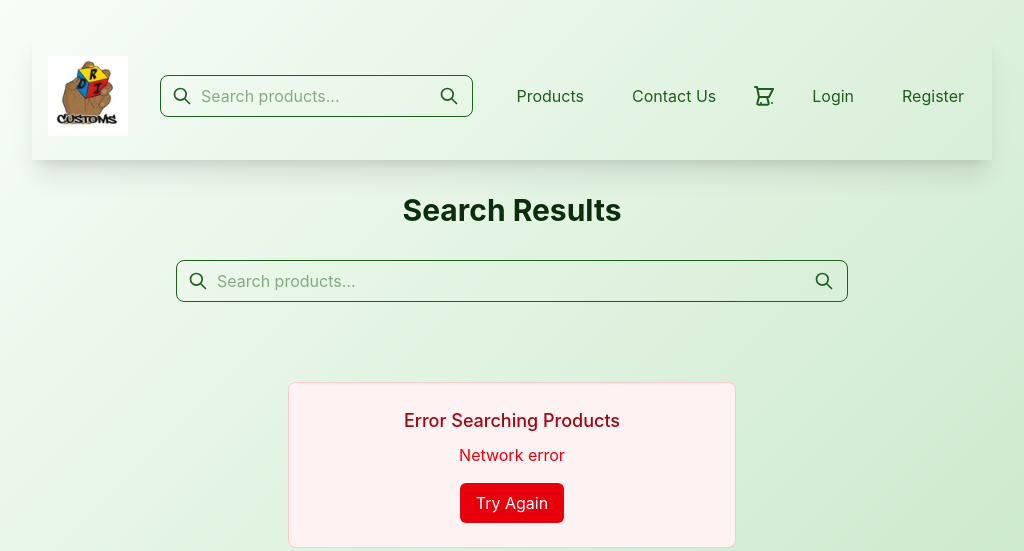
Test: Search Flow Integration Tests › should handle retry after search error
The image size is (1024, 551).
expect the heading "Error Searching Products" is shown: met, box [404, 410, 620, 431]
// Click retry button
Click the button "Try Again" at (512, 503), box [460, 483, 564, 523]
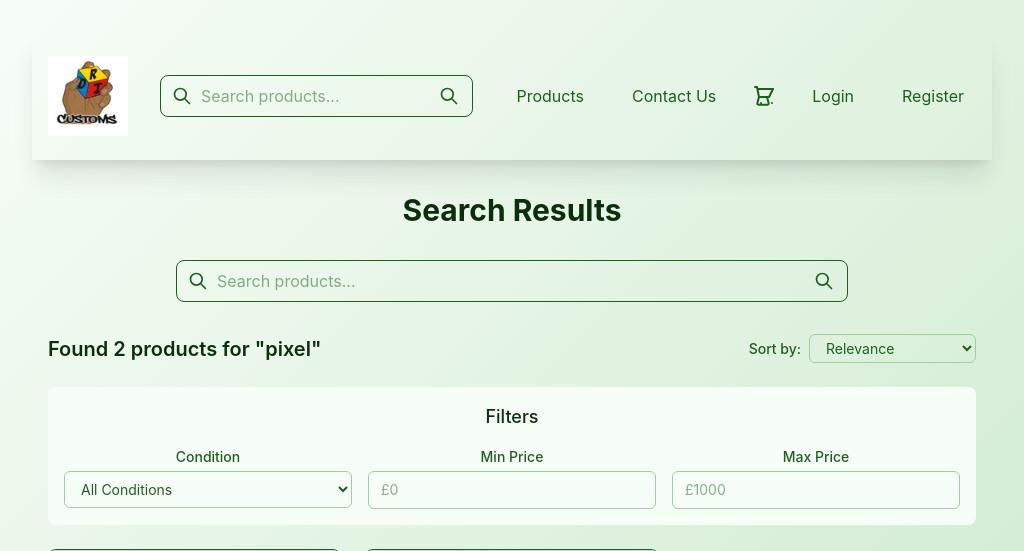
expect the heading "Found 2 products for \"pixel\"" is shown: met, box [48, 334, 321, 362]
